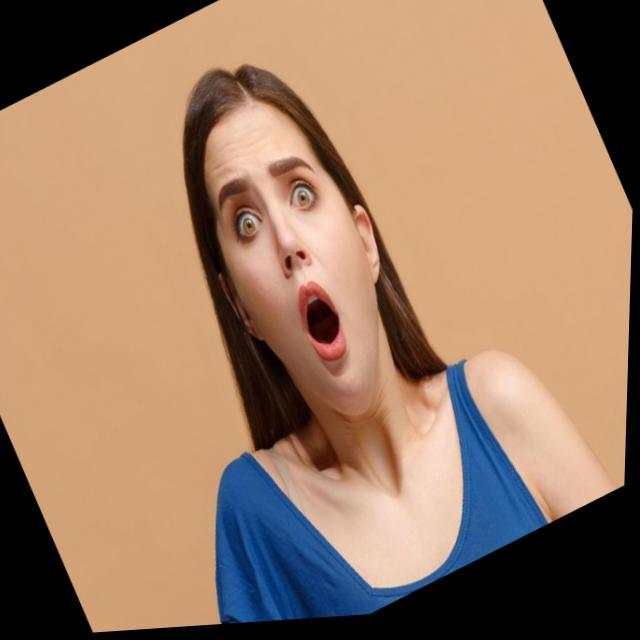Nonhelmet: (178, 61, 449, 452)
